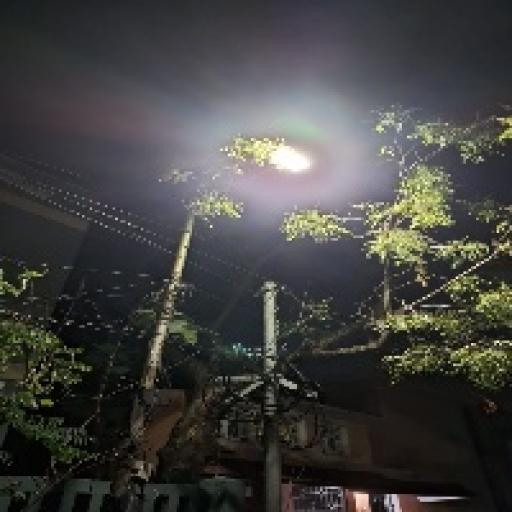Working: (247, 138, 323, 186)
